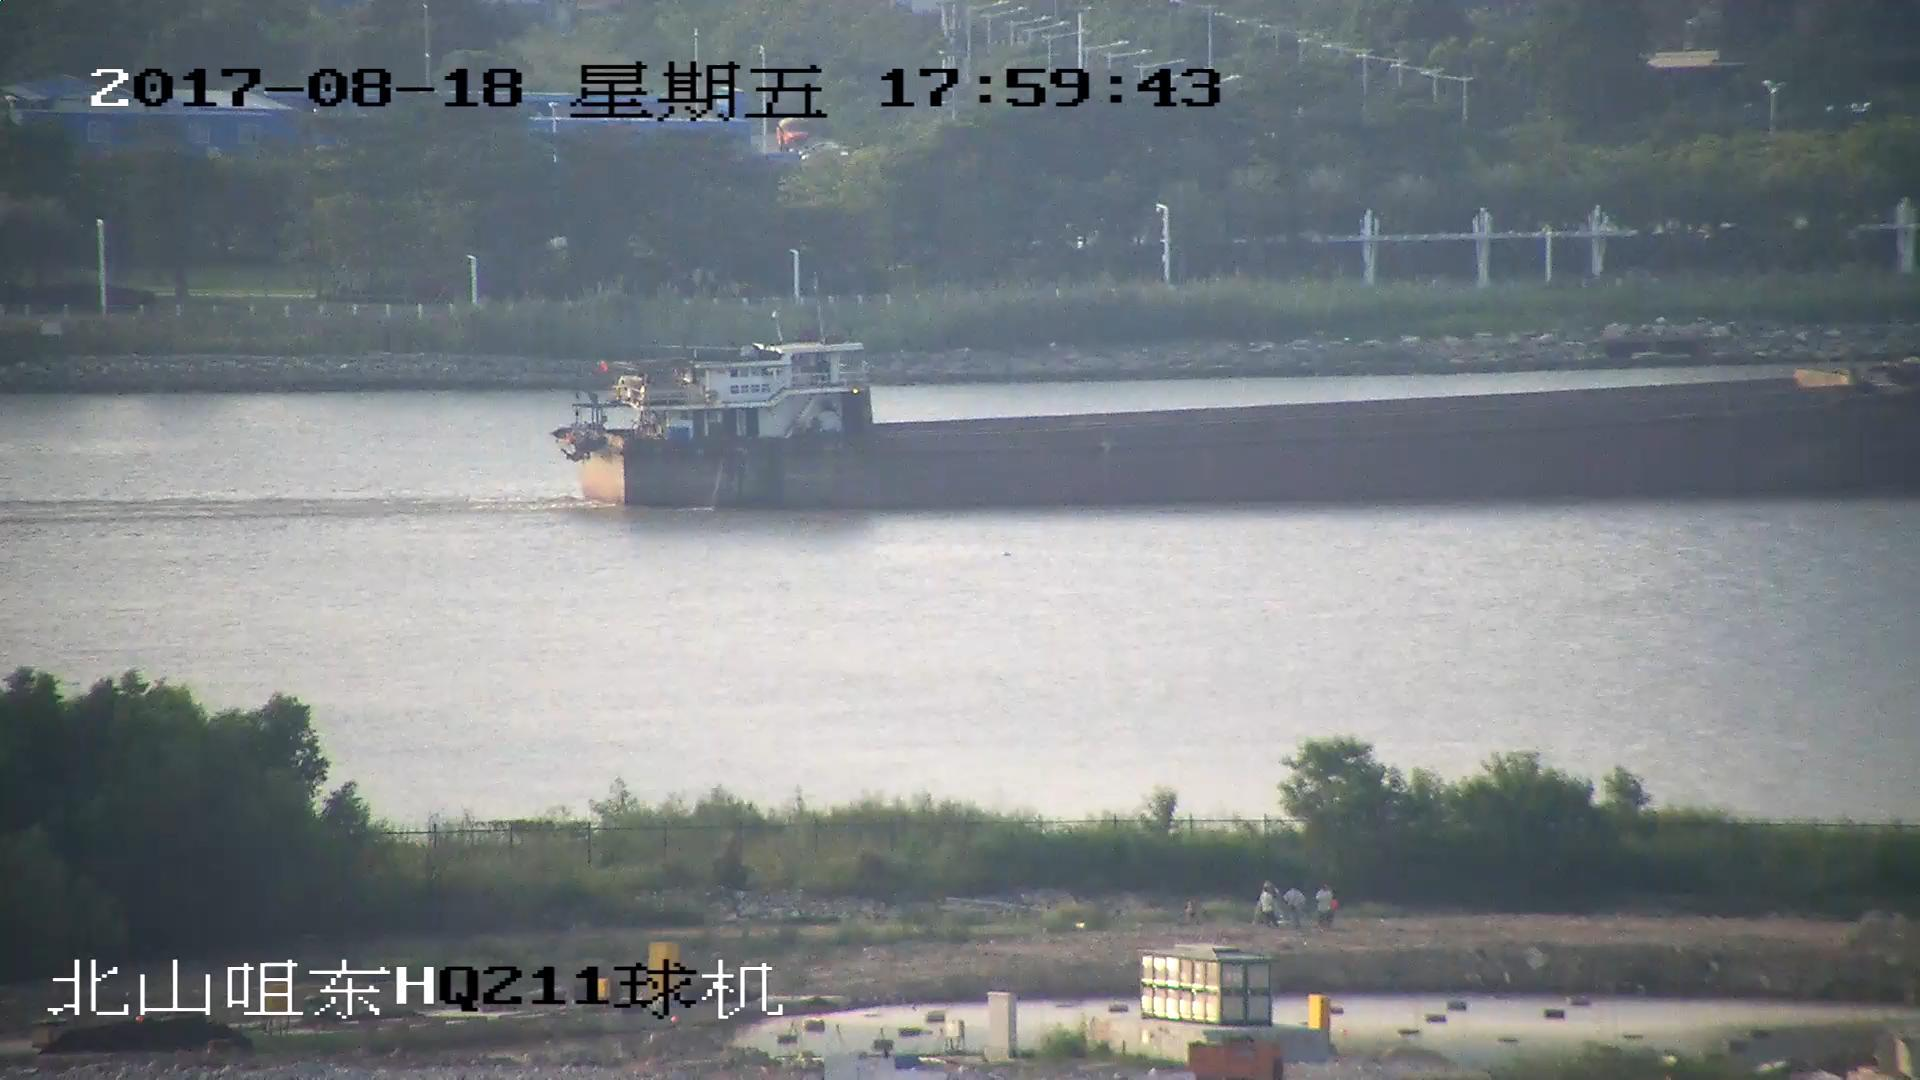Ship: (547, 334, 1920, 513)
